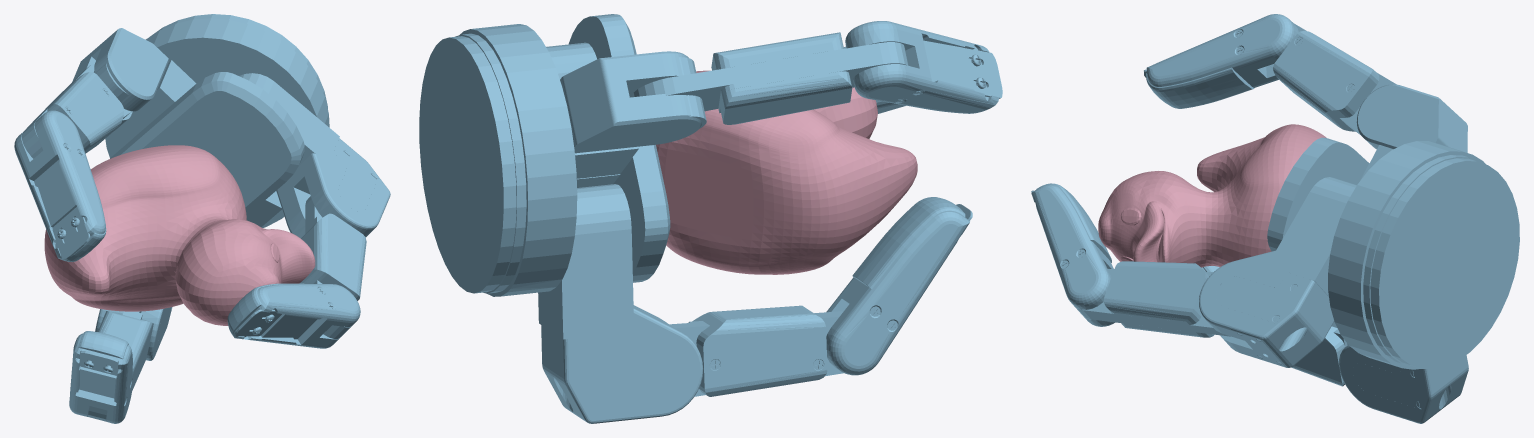
3 views of the same model, side by side, from view 1: azimuth 30°, elevation 25°; view 2: azimuth 150°, elevation 25°; view 3: azimuth 270°, elevation 25° (orthographic). The views are drawn at different scales.
Parts seen in each view (by area): view 1: world, rubber_duck.stl; view 2: world, rubber_duck.stl; view 3: world, rubber_duck.stl.
Part boxes in pixels (x1,y1,x2,y2): world: (14,14,390,423); rubber_duck.stl: (44,145,315,325); world: (419,14,1002,423); rubber_duck.stl: (656,70,917,274); world: (1031,14,1519,423); rubber_duck.stl: (1098,124,1326,267).
Size of the model in its own units: 0.1753 by 0.1393 by 0.1932.
